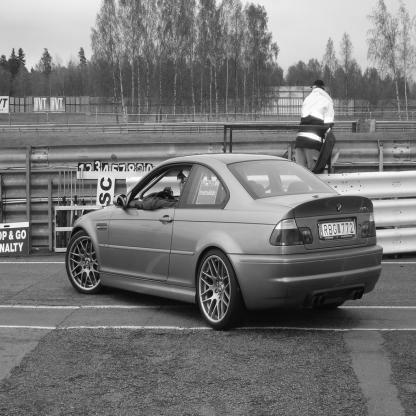car: (48, 135, 397, 352)
